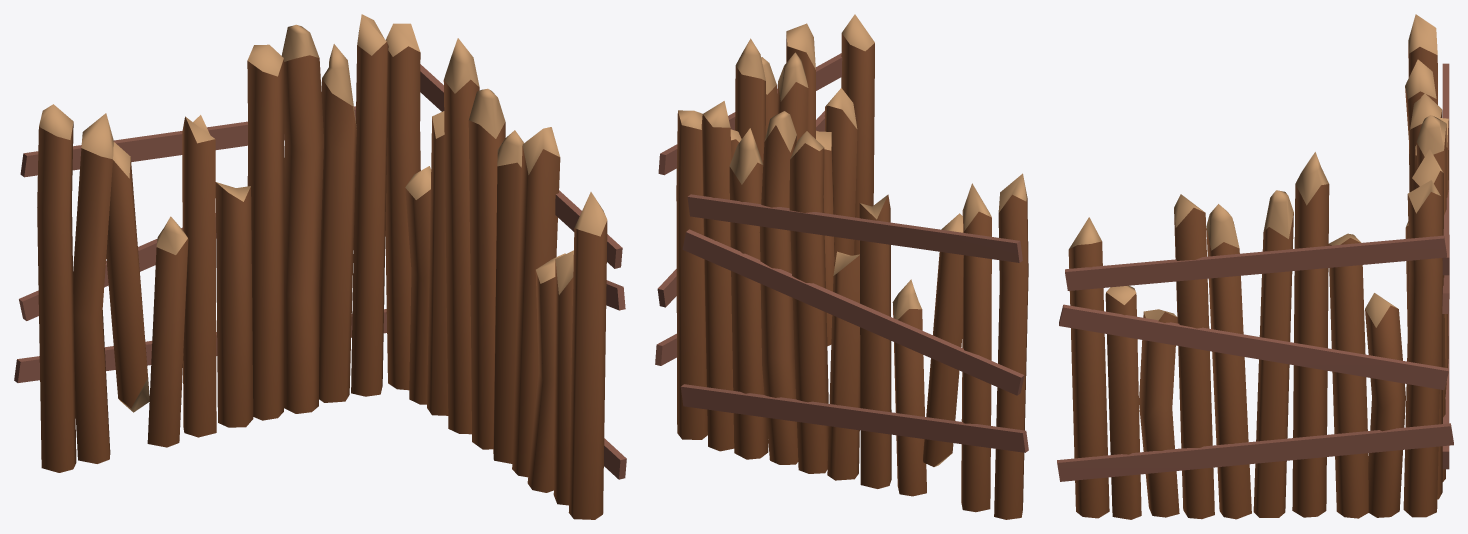
Rendered from Fence_WoodC_J.fbx.
3 renders of one model, left to right at view 1: azimuth 30°, elevation 25°; view 2: azimuth 150°, elevation 25°; view 3: azimuth 270°, elevation 25°, orthographic. The views are drawn at different scales.
Visible parts, largest first — view 1: Fence_WoodC_J; view 2: Fence_WoodC_J; view 3: Fence_WoodC_J.
Boxes of the visible parts, x1,y1,x2,y2 form: Fence_WoodC_J: (14, 14, 626, 519); Fence_WoodC_J: (655, 14, 1028, 519); Fence_WoodC_J: (1057, 14, 1453, 519).
Size of the model in its own units: 598 by 557 by 560.
